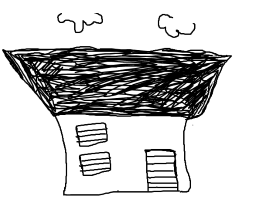closed_window: (75, 148, 115, 182), (73, 118, 118, 148)
clouds: (148, 6, 202, 39), (53, 6, 109, 35)
door: (137, 142, 184, 195)
shaded_roof: (5, 40, 238, 121)
wall: (51, 108, 202, 199)
